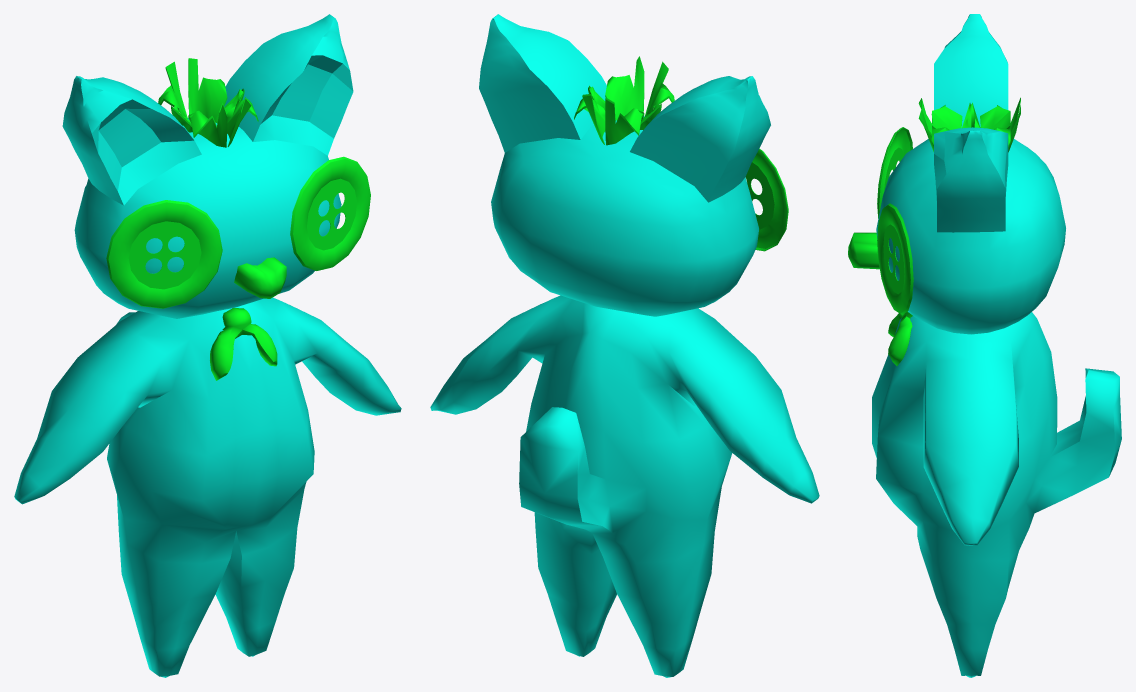
File: EnnemiePVP_LP.fbx
The picture shows the model from 3 angles, left to right: view 1: azimuth 30°, elevation 25°; view 2: azimuth 150°, elevation 25°; view 3: azimuth 270°, elevation 25°; orthographic projection. The views are drawn at different scales.
Parts seen in each view (by area): view 1: Ennemie_PVP_Body_LP, Ennemie_PVP_Head_LP, Ennemie_PVP_Eye_LP, Ennemie_PVP_Hair_LP, Ennemie_PVP_TIE_LP, Ennemie_PVP_Nose_LP; view 2: Ennemie_PVP_Body_LP, Ennemie_PVP_Head_LP, Ennemie_PVP_Hair_LP, Ennemie_PVP_Eye_LP; view 3: Ennemie_PVP_Body_LP, Ennemie_PVP_Head_LP, Ennemie_PVP_Eye_LP, Ennemie_PVP_Hair_LP, Ennemie_PVP_Nose_LP, Ennemie_PVP_TIE_LP.
Part boxes in pixels (<box>): Ennemie_PVP_Body_LP: <box>14,297,401,677</box>; Ennemie_PVP_Head_LP: <box>62,14,353,318</box>; Ennemie_PVP_Eye_LP: <box>106,156,370,308</box>; Ennemie_PVP_Hair_LP: <box>158,58,258,147</box>; Ennemie_PVP_TIE_LP: <box>210,308,277,380</box>; Ennemie_PVP_Nose_LP: <box>234,257,286,298</box>; Ennemie_PVP_Body_LP: <box>430,295,819,677</box>; Ennemie_PVP_Head_LP: <box>479,14,770,316</box>; Ennemie_PVP_Hair_LP: <box>574,56,674,145</box>; Ennemie_PVP_Eye_LP: <box>745,148,788,251</box>; Ennemie_PVP_Body_LP: <box>872,312,1121,677</box>; Ennemie_PVP_Head_LP: <box>876,14,1065,334</box>; Ennemie_PVP_Eye_LP: <box>877,127,913,314</box>; Ennemie_PVP_Hair_LP: <box>918,97,1020,152</box>; Ennemie_PVP_Nose_LP: <box>848,232,879,269</box>; Ennemie_PVP_TIE_LP: <box>888,311,912,365</box>.
Bounding box in the file's own units: 2.77 × 4.28 × 1.82.
